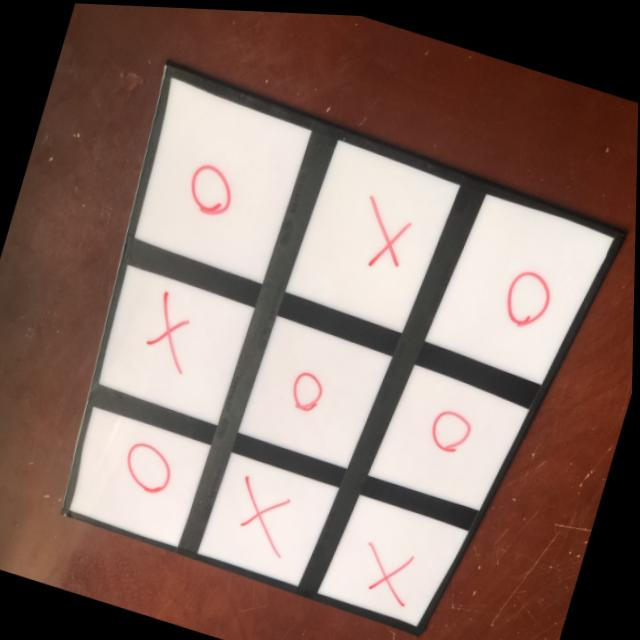o: (493, 253, 562, 340), (417, 386, 490, 459), (113, 431, 184, 504), (178, 153, 242, 223), (278, 359, 334, 421)
table: (20, 68, 631, 640)
x: (345, 183, 430, 286), (135, 288, 217, 388), (227, 475, 300, 556), (355, 538, 423, 605)
